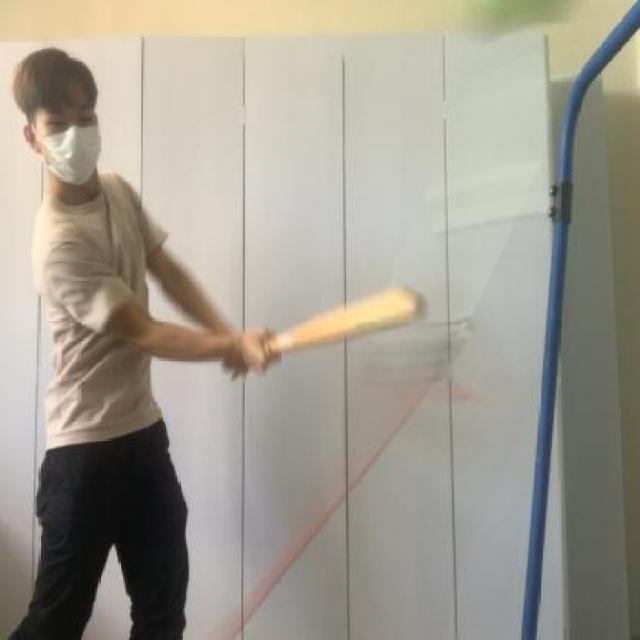baseball: (471, 0, 574, 54)
